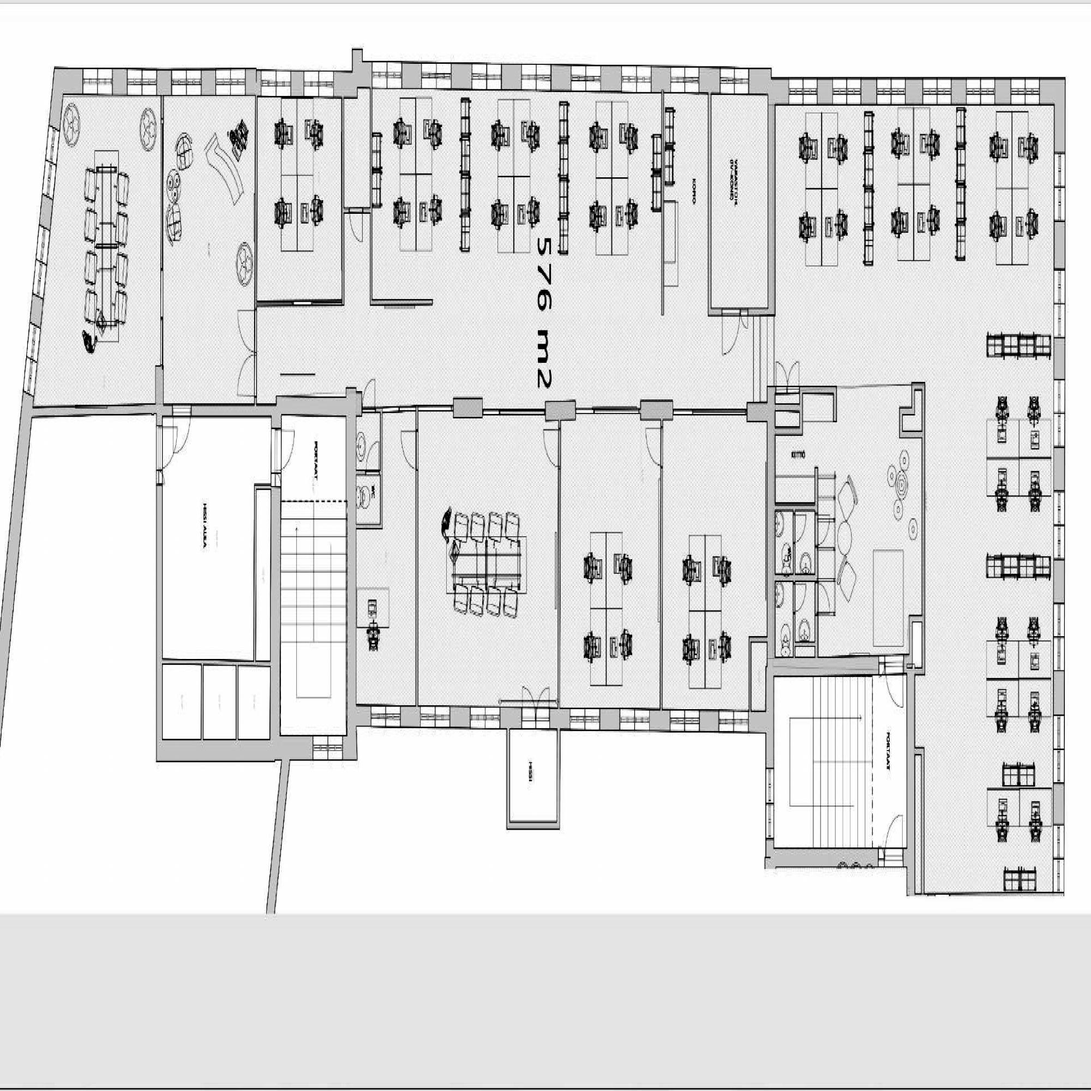wall: (21, 72, 63, 416), (372, 65, 771, 91), (1054, 79, 1065, 914), (55, 72, 357, 98), (771, 79, 1065, 105), (557, 708, 775, 730), (157, 740, 357, 762), (347, 708, 510, 730), (906, 893, 1065, 914), (272, 406, 281, 762), (347, 395, 357, 708), (766, 657, 915, 677), (766, 385, 775, 708), (766, 848, 915, 867), (157, 406, 163, 762), (275, 395, 357, 419), (767, 79, 775, 315), (906, 657, 915, 848), (766, 708, 775, 867), (21, 406, 163, 416), (163, 407, 281, 417), (506, 708, 557, 730), (254, 72, 257, 417), (558, 401, 561, 729), (660, 401, 663, 729), (922, 382, 925, 677), (160, 72, 163, 366), (661, 65, 664, 315), (708, 65, 711, 315), (416, 406, 418, 730), (815, 467, 818, 677), (906, 847, 915, 914), (346, 708, 357, 762), (640, 401, 673, 419), (453, 399, 483, 418), (546, 401, 576, 420), (362, 406, 453, 412), (909, 615, 922, 657), (747, 403, 775, 422), (352, 65, 372, 91), (506, 708, 510, 828), (370, 65, 372, 305), (342, 72, 344, 306), (673, 406, 747, 412), (921, 748, 924, 893), (766, 386, 837, 392), (708, 309, 775, 315), (576, 406, 640, 412), (906, 657, 925, 677), (482, 406, 545, 412), (793, 642, 818, 657), (507, 821, 560, 828), (766, 575, 818, 582), (557, 708, 560, 828), (793, 503, 795, 677), (156, 366, 164, 407), (766, 503, 818, 509), (370, 300, 432, 305), (766, 427, 802, 434), (380, 406, 382, 529), (255, 301, 293, 307), (346, 523, 382, 529), (346, 470, 382, 476), (749, 637, 752, 708), (900, 430, 925, 438), (312, 300, 344, 306), (775, 404, 800, 411), (352, 65, 357, 98), (342, 207, 372, 212), (356, 391, 362, 416), (799, 386, 802, 434), (834, 385, 837, 421), (900, 409, 915, 416), (912, 382, 915, 416), (749, 637, 766, 643), (912, 382, 925, 389), (900, 409, 903, 438), (346, 387, 356, 395), (915, 748, 924, 756)
